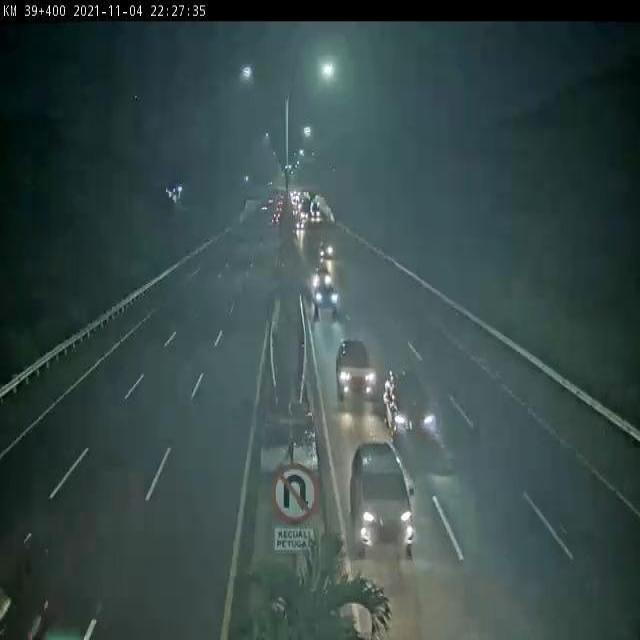Car: (345, 442, 416, 554), (381, 360, 444, 446), (333, 339, 377, 400), (309, 282, 342, 318)
